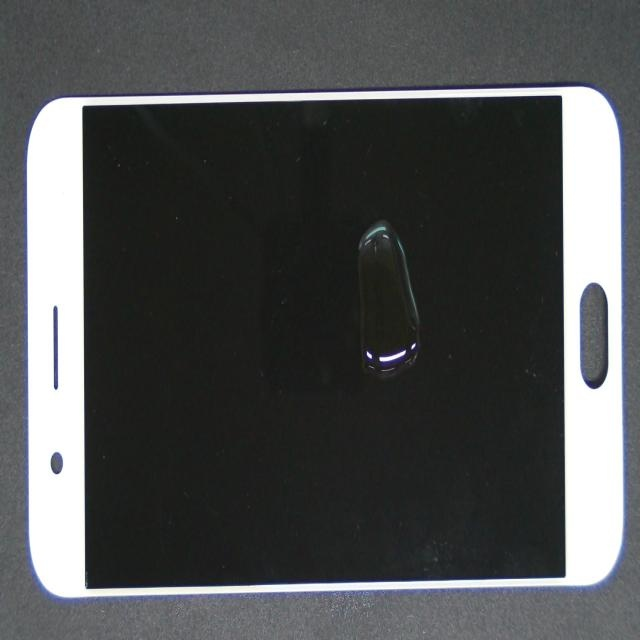oil: (222, 200, 627, 460)
